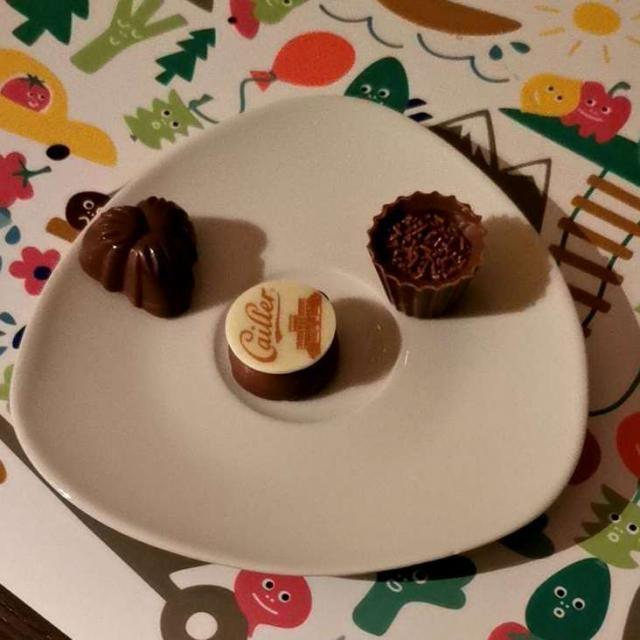nuts: (84, 195, 487, 411)
